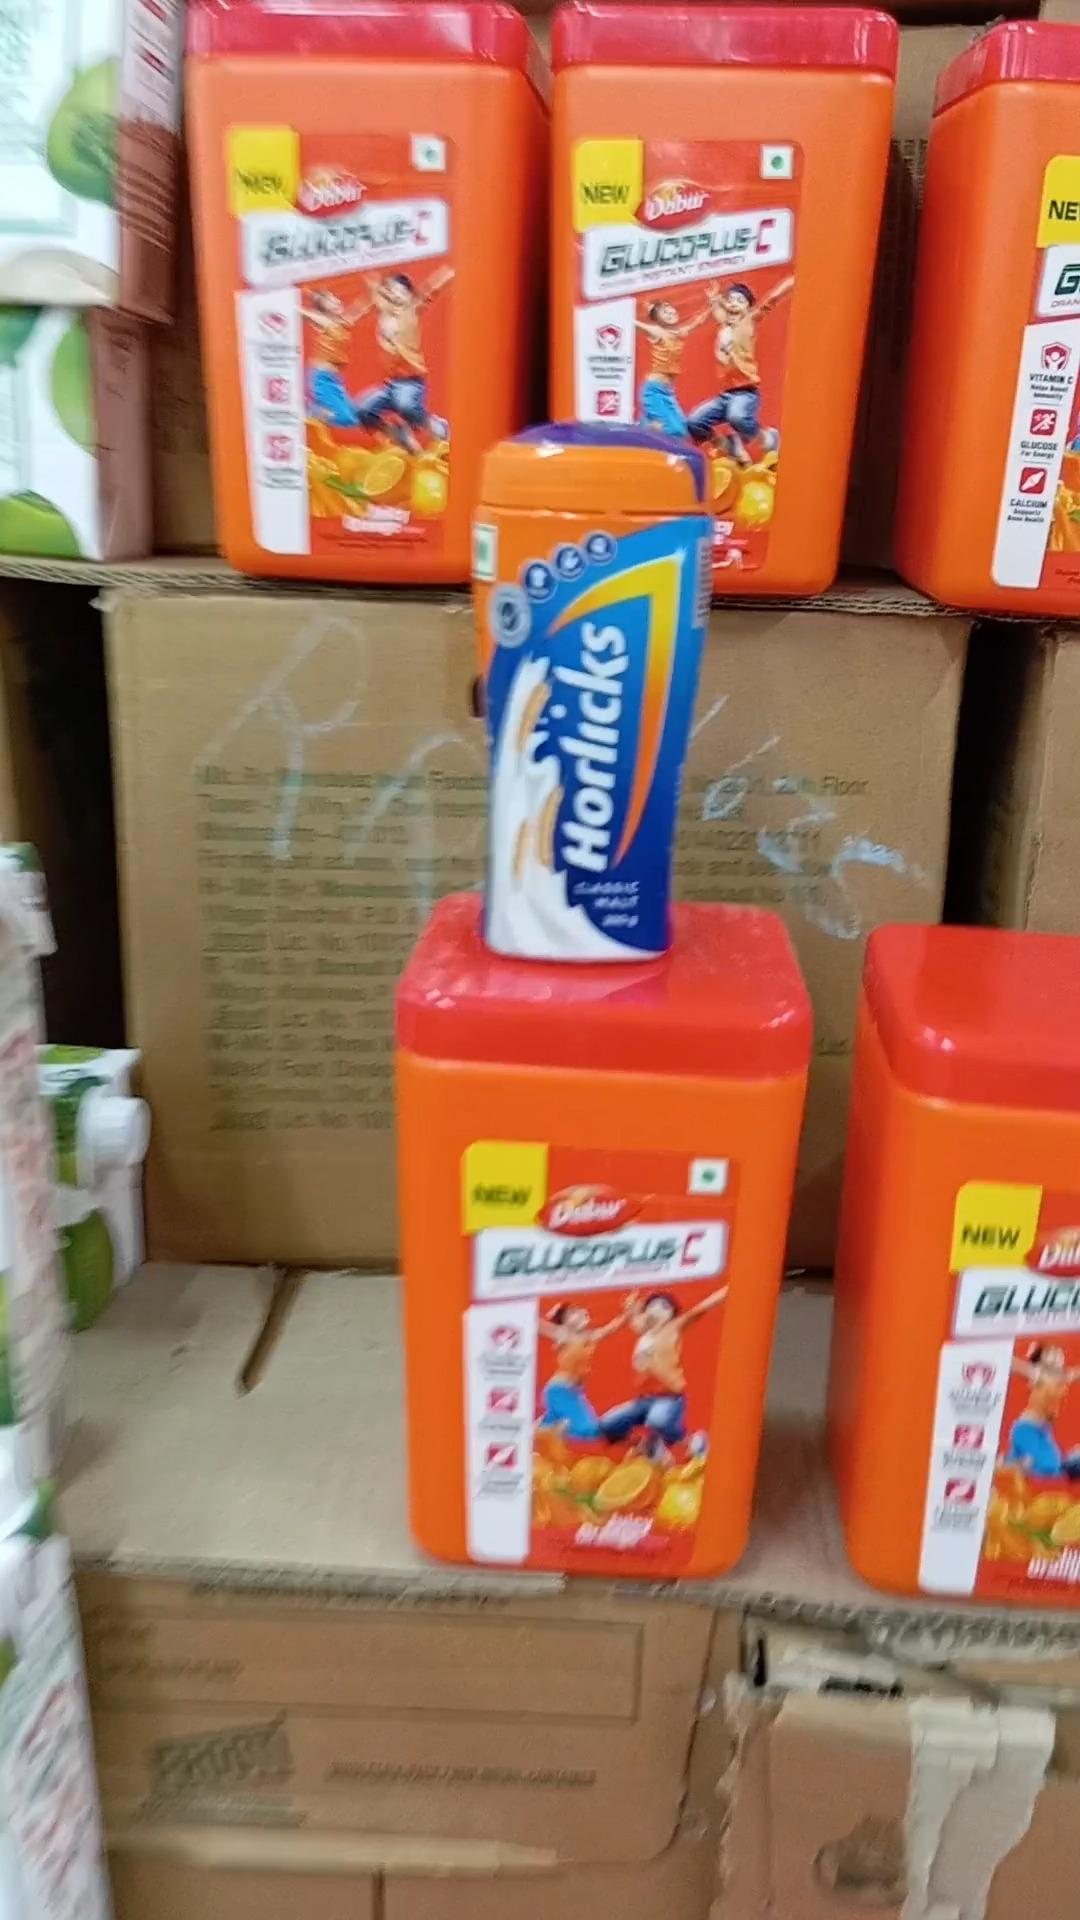HORLICK_CLASSIC_MALT_200_G_JAR: (467, 422, 696, 961)
